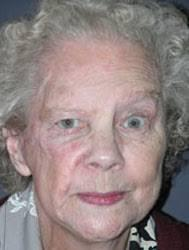strokeEyeMid: (49, 96, 159, 143)
